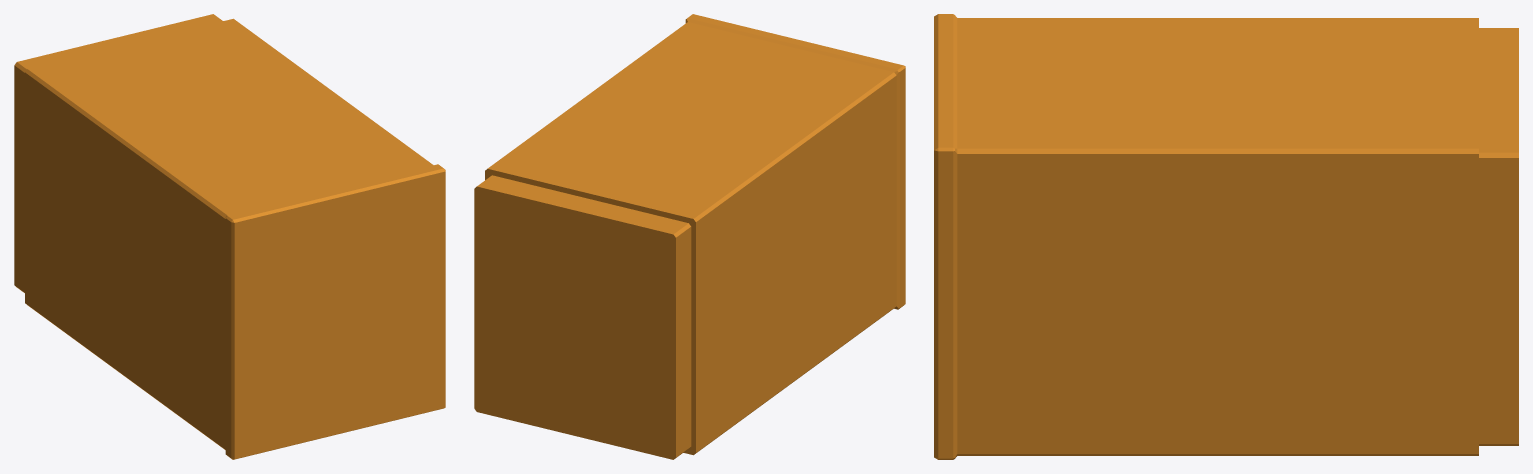
File: NightstandmeshSideTable_302_2_0.obj
3 views of the same model, side by side, from view 1: azimuth 30°, elevation 25°; view 2: azimuth 150°, elevation 25°; view 3: azimuth 270°, elevation 25° (orthographic). The views are drawn at different scales.
Parts seen in each view (by area): view 1: SideTable_302_2; view 2: SideTable_302_2; view 3: SideTable_302_2.
Boxes of the visible parts, bbox=[...] form: SideTable_302_2: bbox=[14, 14, 445, 459]; SideTable_302_2: bbox=[474, 14, 905, 459]; SideTable_302_2: bbox=[934, 14, 1518, 459].
Bounding box in the file's own units: 0.3677 × 0.3937 × 0.6683.
